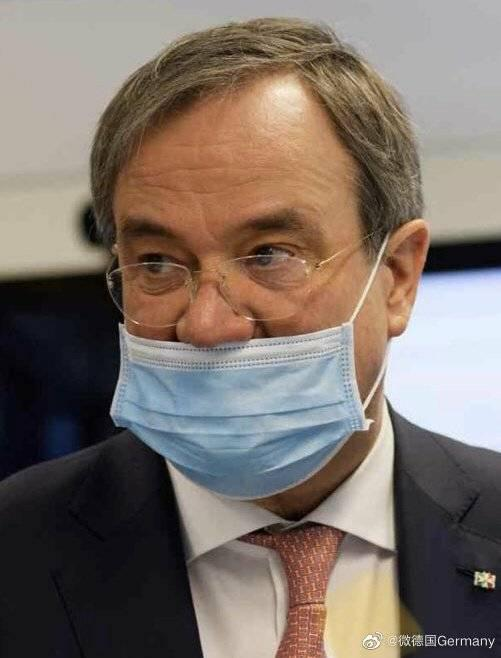WRONG: (107, 173, 361, 498)
